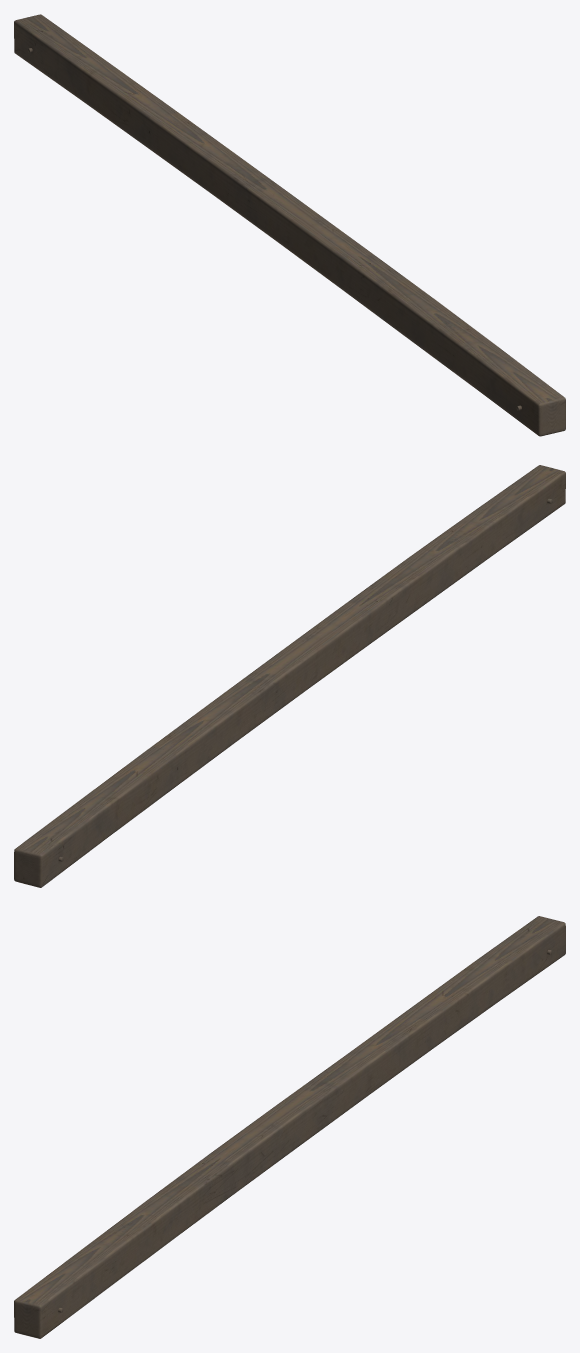
File: tie_beam_8m.glb
3 views of the same model, one above another, from view 1: azimuth 30°, elevation 25°; view 2: azimuth 150°, elevation 25°; view 3: azimuth 330°, elevation 25° (orthographic).
Visible parts, largest first — view 1: tie_beam_8m; view 2: tie_beam_8m; view 3: tie_beam_8m.
Boxes of the visible parts, x1,y1,x2,y2 form: tie_beam_8m: (14, 14, 565, 436); tie_beam_8m: (14, 465, 565, 887); tie_beam_8m: (14, 916, 565, 1338).
Size of the model in its own units: 0.32 by 0.3316 by 8.6.
Materials: 1 (1 with a texture image).
